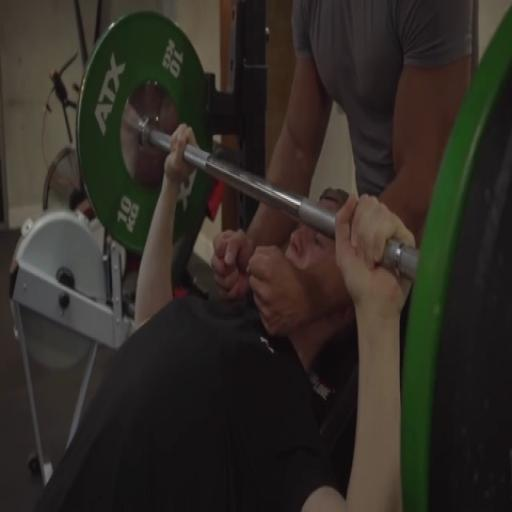exercise: (27, 122, 416, 511)
